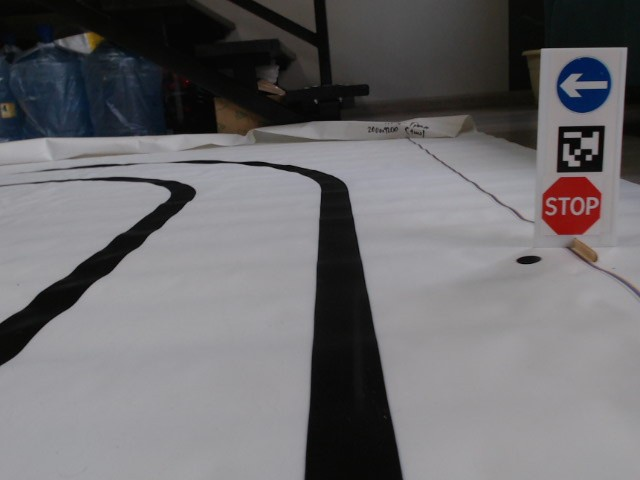Stop: (540, 174, 602, 237)
